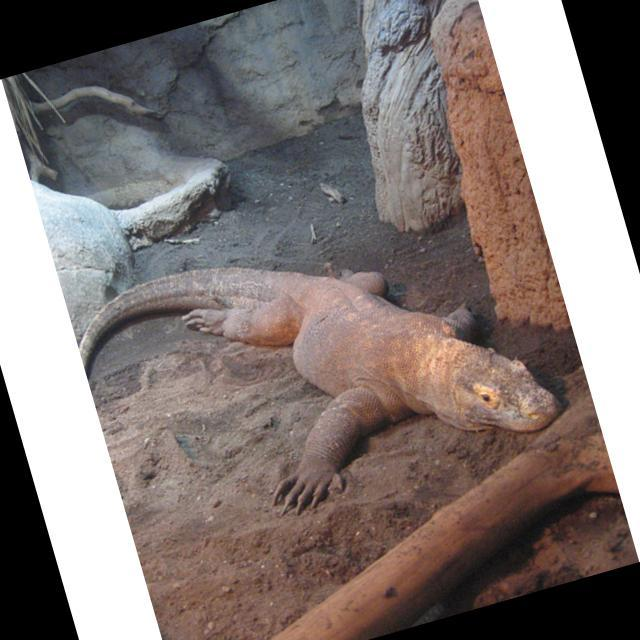KomodoDragon: (65, 179, 563, 555)
